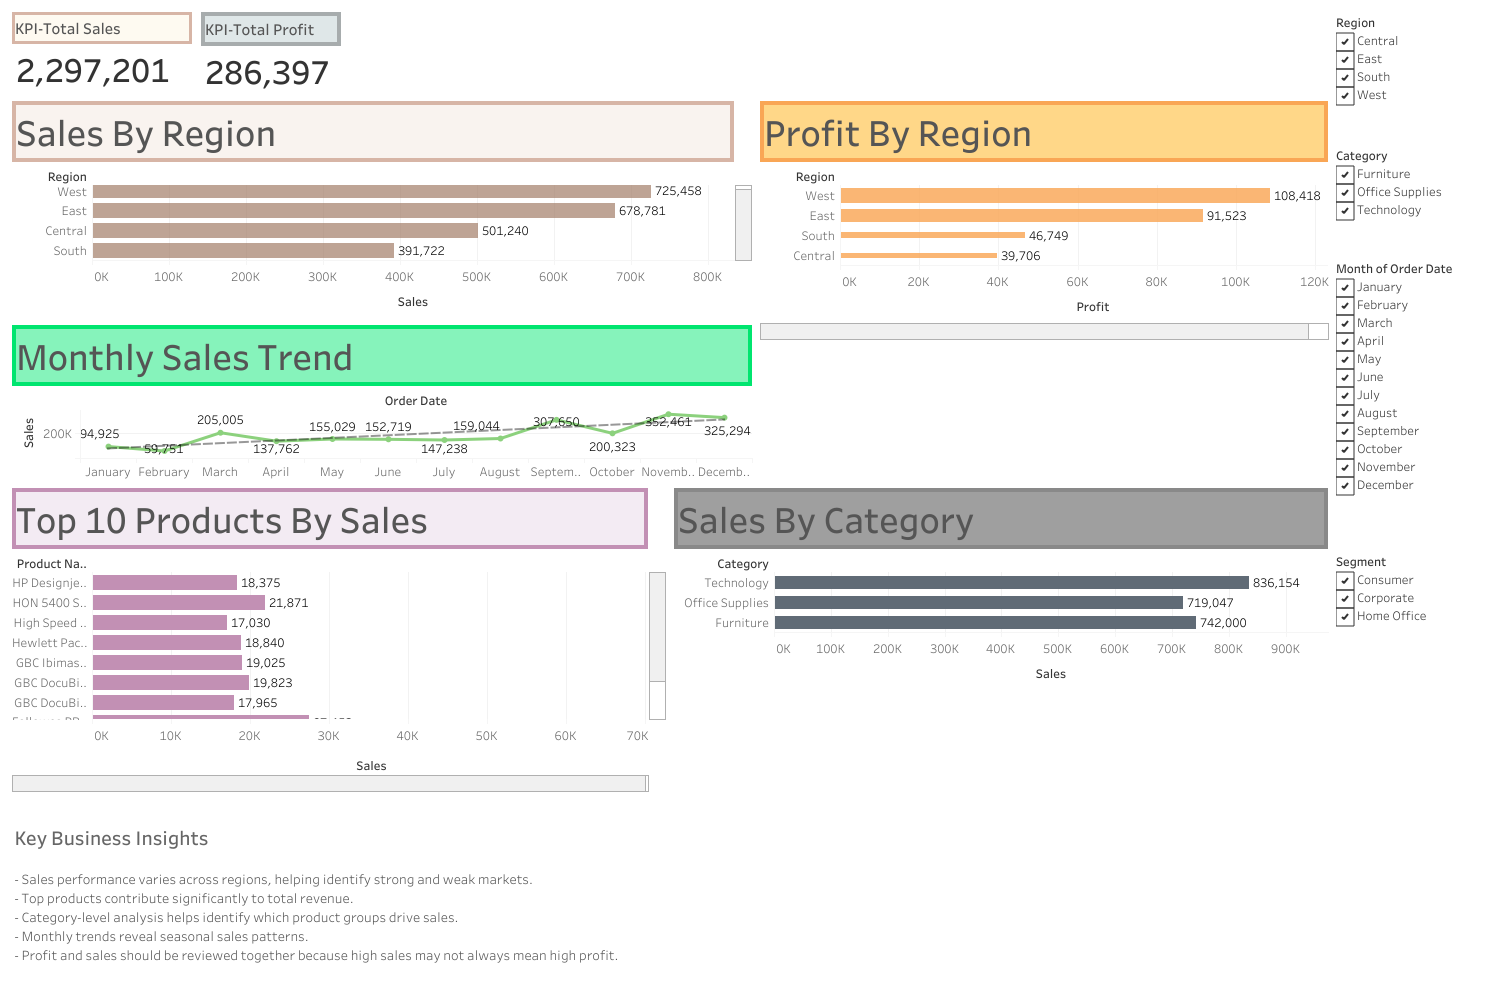

The dashboard page shown, as its layout file describes it:
{"tool":"tableau","page":{"name":"Sales Perfromance Dashboard","canvas":[1500,1000],"ordinal":0},"visuals":[{"type":"worksheet","title":"KPI-Total Sales","mark":"Automatic","box":[8,8,189.1,88.9]},{"type":"worksheet","title":"KPI-Total Profit","mark":"Automatic","box":[197.1,8,1134.9,88.9]},{"type":"filter","title":"Sales By Region","param":"[federated.0xqf0hg0yvw9x218rqvd71xwr9ad].[none:Region:nk]","box":[1332,8,160,127]},{"type":"worksheet","title":"Sales By Region","mark":"Automatic","rows":["Region"],"cols":["Sales"],"box":[8,96.9,747.6,224.4]},{"type":"worksheet","title":"Profit By Region","mark":"Automatic","rows":["Region"],"cols":["Profit"],"box":[755.6,96.9,576.4,386.8]},{"type":"filter","title":"Sales By Category","param":"[federated.0xqf0hg0yvw9x218rqvd71xwr9ad].[none:Category:nk]","box":[1332,135,160,108]},{"type":"filter","title":"Monthly Sales Trend","param":"[federated.0xqf0hg0yvw9x218rqvd71xwr9ad].[mn:Order Date:ok]","box":[1332,243,160,279]},{"type":"worksheet","title":"Monthly Sales Trend","mark":"Automatic","rows":["Sales"],"cols":["Order Date"],"box":[8,321.3,747.6,162.4]},{"type":"worksheet","title":"Top 10 Products By Sales","mark":"Automatic","rows":["Product Name"],"cols":["Sales"],"box":[8,483.7,662,312.3]},{"type":"worksheet","title":"Sales By Category","mark":"Automatic","rows":["Category"],"cols":["Sales"],"box":[670,483.7,662,312.3]},{"type":"filter","title":"Sales By Category","param":"[federated.0xqf0hg0yvw9x218rqvd71xwr9ad].[none:Segment:nk]","box":[1332,522,160,108]},{"type":"text","box":[8,796,1484,196]}]}

Visuals, with their boxes in screenshot pixels (x1, y1, x2, y2), scaled from the page's 1500x1000 canvas onto the 1499x999 screenshot:
"KPI-Total Sales" worksheet: 8 8 197 97
"KPI-Total Profit" worksheet: 197 8 1331 97
"Sales By Region" filter: 1331 8 1491 135
"Sales By Region" worksheet: 8 97 755 321
"Profit By Region" worksheet: 755 97 1331 483
"Sales By Category" filter: 1331 135 1491 243
"Monthly Sales Trend" filter: 1331 243 1491 521
"Monthly Sales Trend" worksheet: 8 321 755 483
"Top 10 Products By Sales" worksheet: 8 483 670 795
"Sales By Category" worksheet: 670 483 1331 795
"Sales By Category" filter: 1331 521 1491 629
text: 8 795 1491 991
